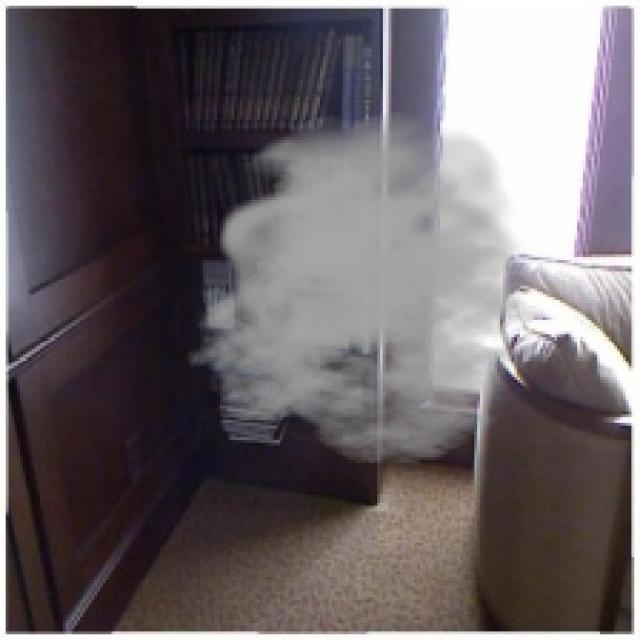Smoke: (185, 111, 566, 466)
